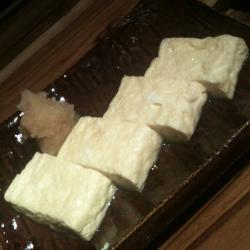omelette: (5, 153, 107, 232), (101, 73, 208, 143), (146, 32, 244, 102), (62, 114, 150, 179)
